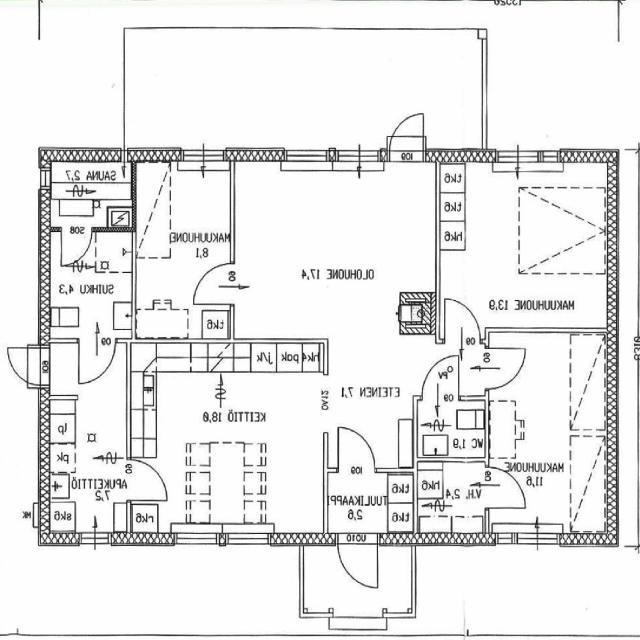door: (339, 534, 378, 591), (390, 111, 424, 161), (6, 348, 51, 385), (422, 355, 459, 400), (80, 338, 116, 384), (339, 427, 375, 473), (195, 263, 235, 304), (486, 348, 526, 389), (486, 467, 526, 508), (128, 460, 168, 500), (445, 299, 480, 343), (62, 228, 92, 266)
